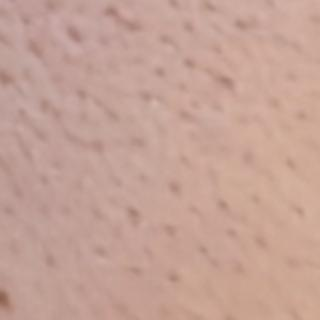Pores: (140, 244, 163, 265), (229, 258, 249, 275), (129, 133, 148, 150), (124, 18, 144, 34), (65, 22, 79, 44), (176, 110, 198, 124), (159, 35, 178, 51), (219, 76, 238, 92), (167, 177, 183, 196), (163, 221, 179, 240), (106, 171, 125, 187), (283, 156, 301, 172), (92, 243, 110, 259), (62, 50, 78, 68), (285, 253, 301, 271), (123, 263, 145, 276), (33, 125, 47, 145), (290, 307, 311, 320), (284, 71, 301, 87), (209, 98, 226, 114), (0, 69, 16, 86), (253, 234, 270, 250), (90, 205, 106, 222), (50, 109, 67, 125), (239, 151, 257, 166), (37, 202, 55, 217), (29, 38, 43, 57), (199, 0, 221, 12), (89, 139, 105, 155), (109, 223, 125, 239), (1, 203, 17, 219), (294, 108, 311, 123), (126, 203, 140, 221), (166, 268, 181, 284), (58, 202, 74, 217), (49, 155, 65, 170), (209, 42, 226, 56), (74, 85, 91, 99), (44, 1, 61, 15), (106, 110, 124, 123), (0, 30, 13, 48), (195, 240, 210, 255), (37, 95, 52, 110), (22, 68, 37, 83), (234, 16, 248, 32), (139, 91, 155, 105), (223, 225, 239, 239), (45, 252, 57, 270), (103, 5, 118, 19), (181, 55, 196, 69), (292, 203, 307, 217), (96, 33, 111, 47), (135, 170, 149, 185), (233, 114, 249, 127), (248, 192, 264, 205), (37, 172, 53, 185), (215, 196, 229, 210), (209, 21, 224, 34), (176, 153, 192, 165), (16, 105, 28, 121), (202, 65, 216, 78), (189, 309, 205, 320), (154, 66, 168, 78), (50, 69, 62, 83), (15, 185, 27, 199), (222, 312, 242, 320), (182, 20, 194, 33), (268, 97, 280, 110), (19, 14, 33, 25), (179, 81, 191, 93), (189, 99, 201, 111), (86, 61, 98, 73), (131, 56, 145, 65), (168, 1, 181, 10), (133, 317, 143, 320)
